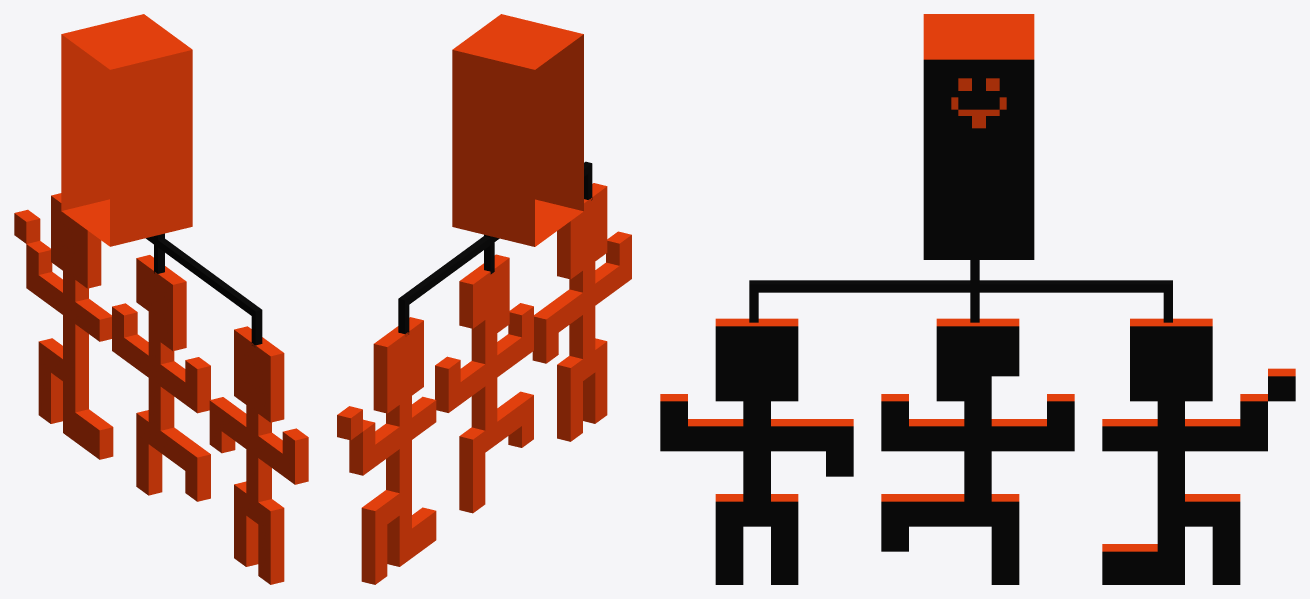
Rendered from Prophecy.fbx.
The picture shows the model from 3 angles, left to right: view 1: azimuth 30°, elevation 25°; view 2: azimuth 150°, elevation 25°; view 3: azimuth 270°, elevation 25°; orthographic projection. The views are drawn at different scales.
Visible parts, largest first — view 1: HIEROGLYPH; view 2: HIEROGLYPH; view 3: HIEROGLYPH.
Boxes of the visible parts, x1,y1,x2,y2 form: HIEROGLYPH: (14,14,308,584); HIEROGLYPH: (337,14,631,584); HIEROGLYPH: (660,14,1295,584).
Bounding box in the file's own units: 9.77 × 52.49 × 57.5.
